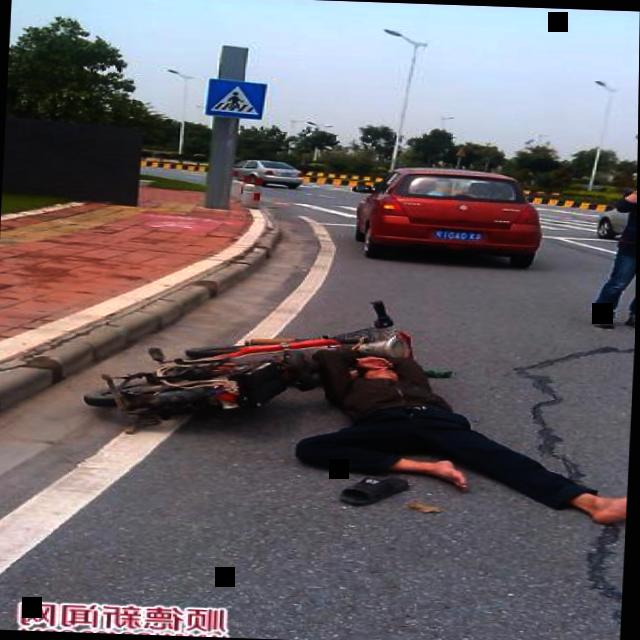Fall-Detected: (264, 310, 636, 532)
